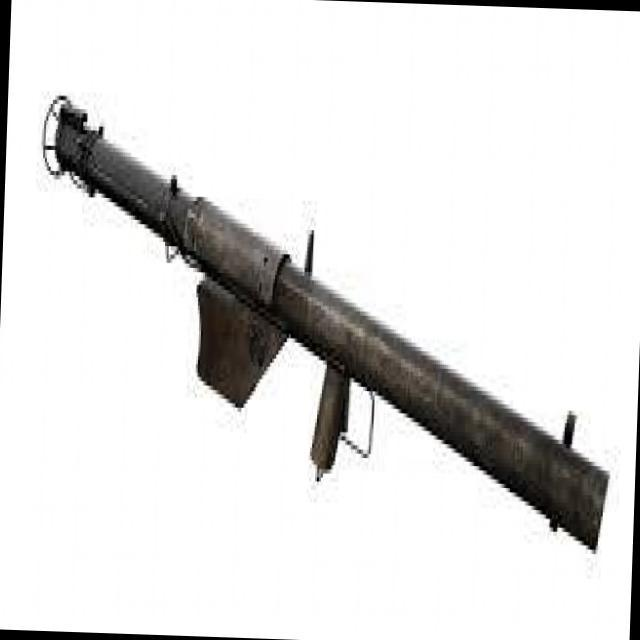rocket: (33, 93, 619, 552)
